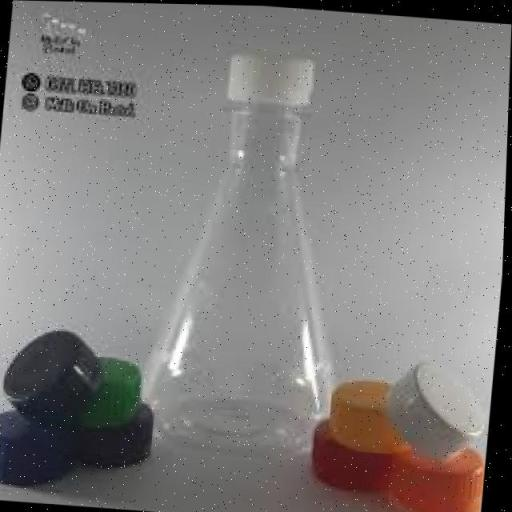plastic: (140, 40, 382, 465)
